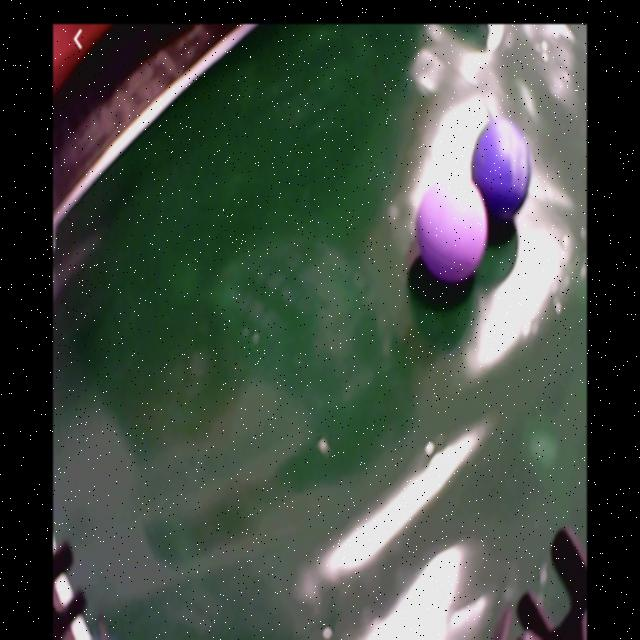ball: (416, 175, 488, 287), (471, 119, 532, 223)
